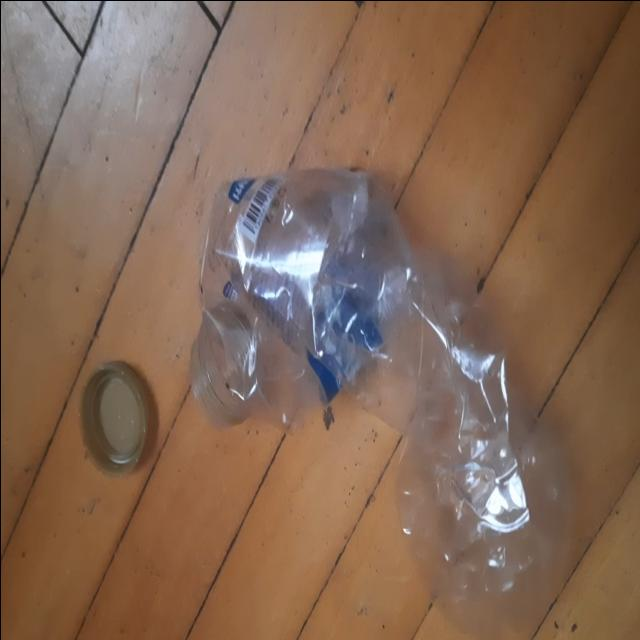Plastic: (194, 166, 570, 638)
